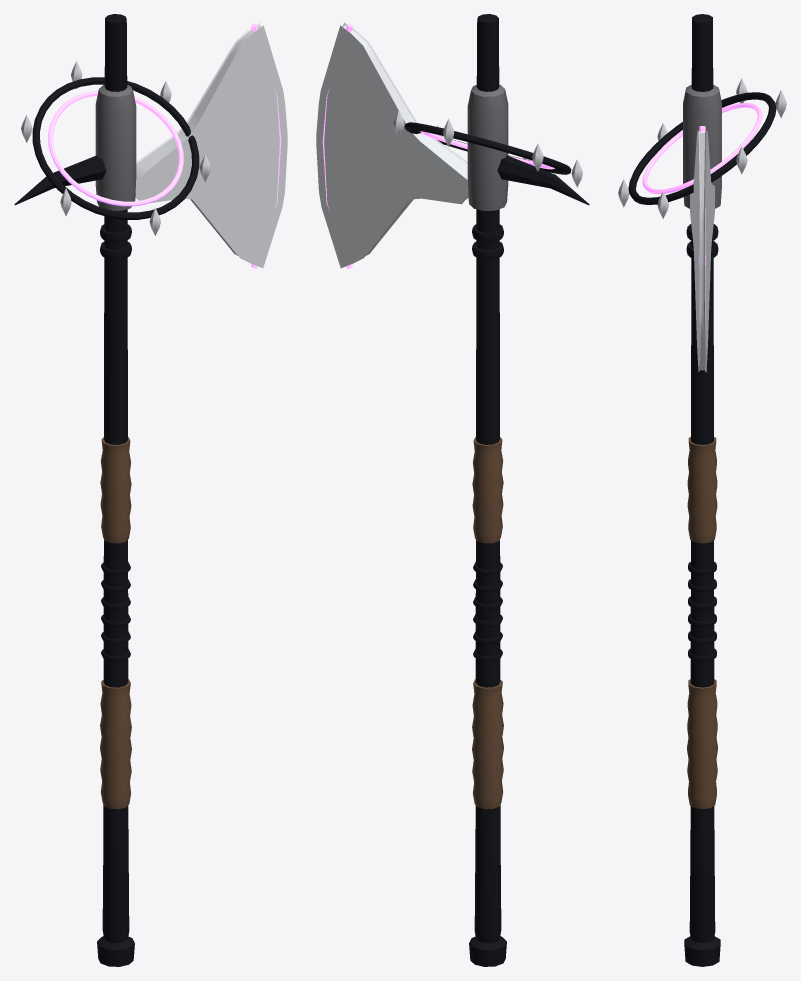
File: esc_w_knight_greataxe_2.glb
3 renders of one model, left to right at view 1: azimuth 30°, elevation 25°; view 2: azimuth 150°, elevation 25°; view 3: azimuth 270°, elevation 25°, orthographic.
Visible parts, largest first — view 1: esc_w_knight_greataxe_2; view 2: esc_w_knight_greataxe_2; view 3: esc_w_knight_greataxe_2.
Part boxes in pixels (x1,y1,x2,y2): esc_w_knight_greataxe_2: (14,14,287,966); esc_w_knight_greataxe_2: (316,14,589,966); esc_w_knight_greataxe_2: (618,14,786,966).
Bounding box in the file's own units: 0.4927 × 1.64 × 0.265.
